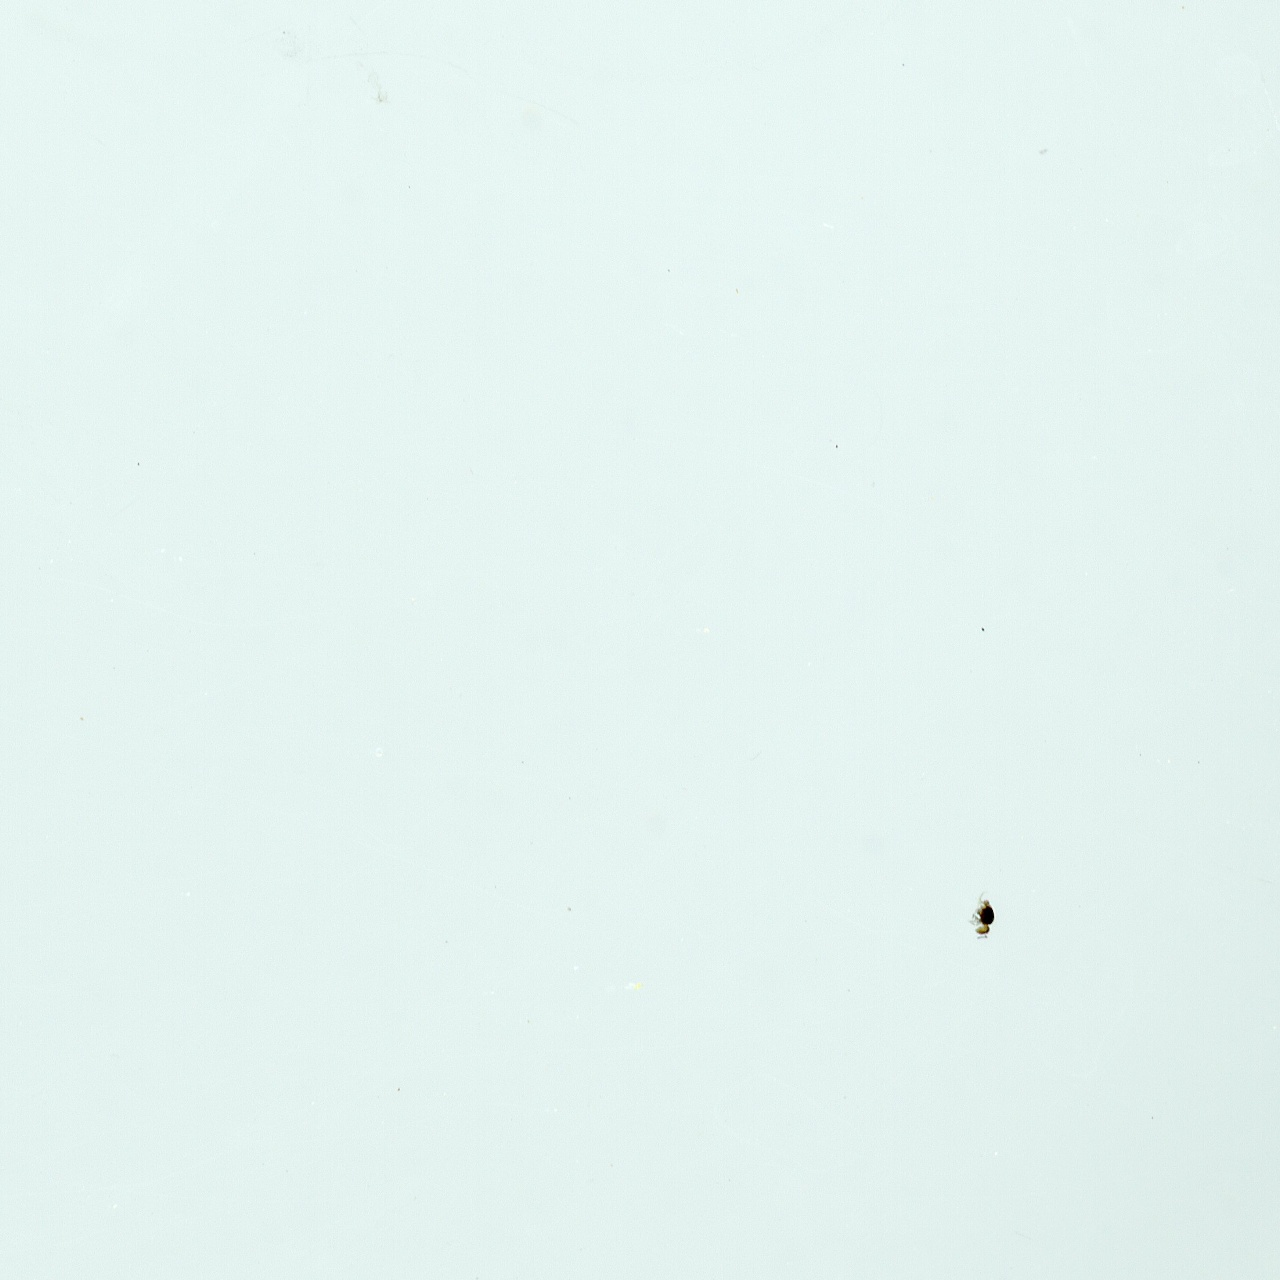arthropod: (966, 887, 1000, 942)
